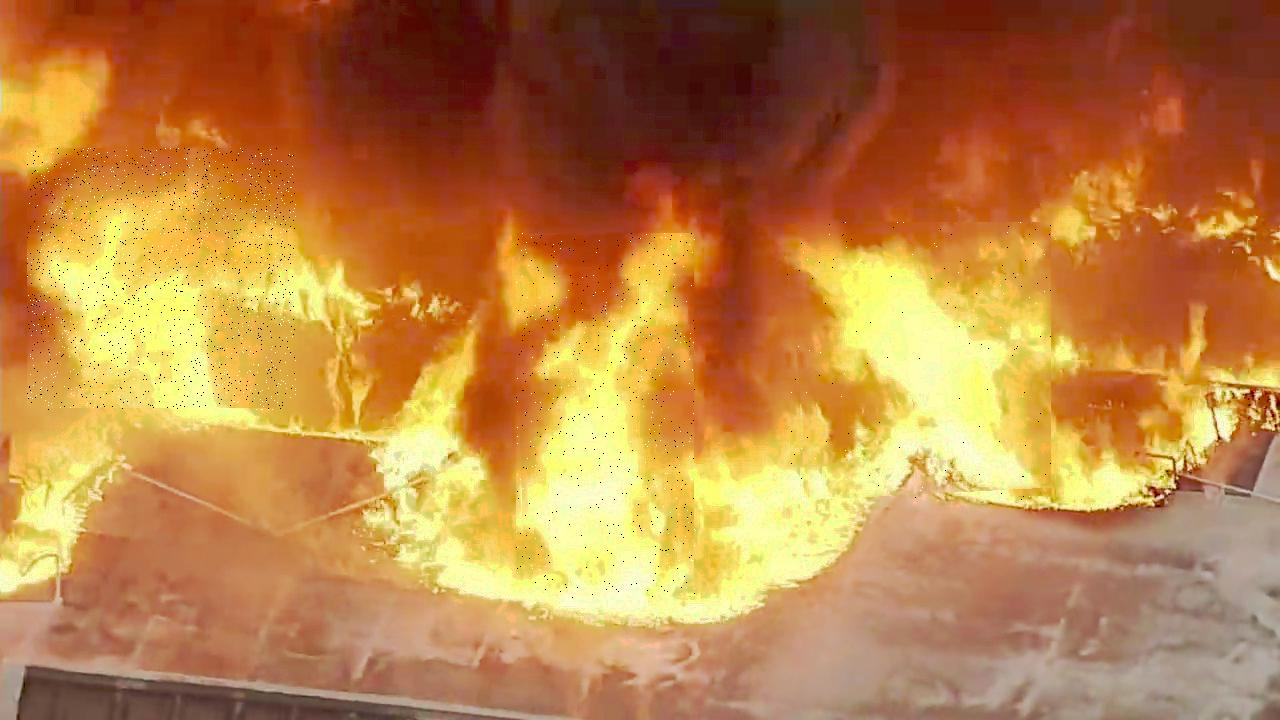fire: (785, 222, 1051, 500), (28, 149, 297, 411), (517, 234, 697, 599)
